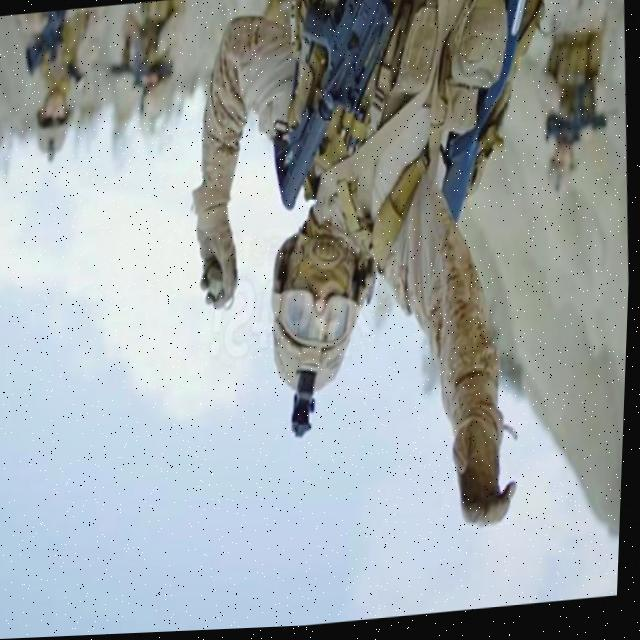grenade: (200, 264, 246, 320)
